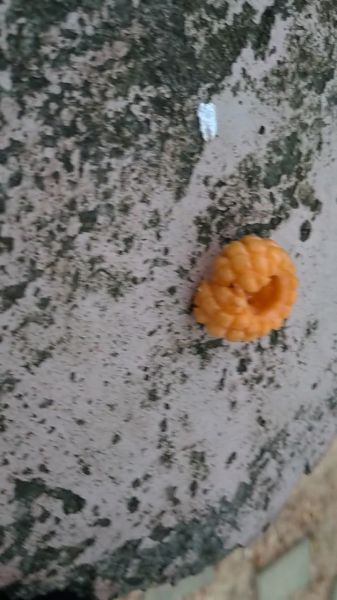eggs: (188, 229, 306, 343)
